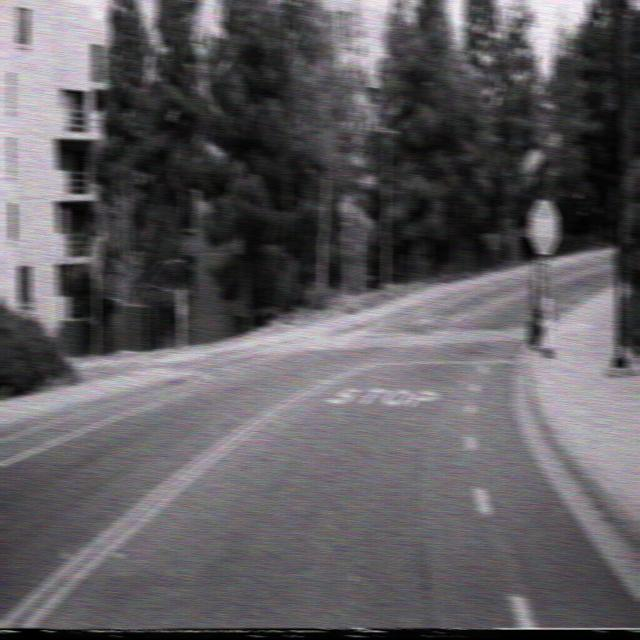stop: (528, 199, 560, 255)
